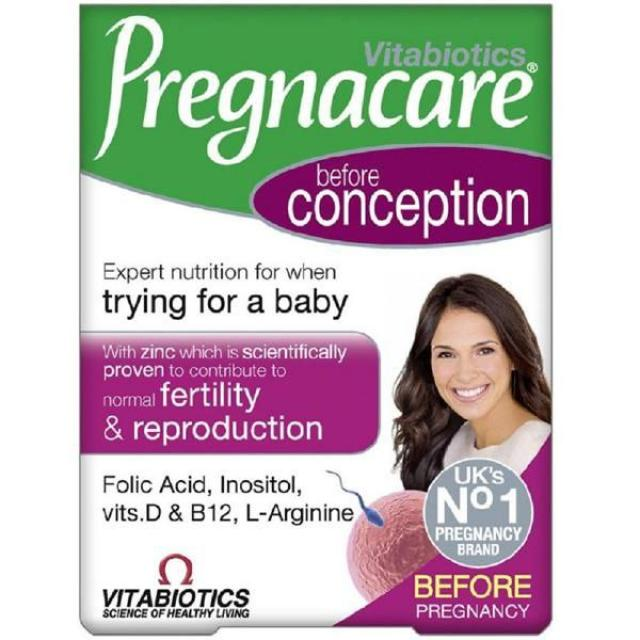pregnancy: (82, 5, 549, 633)
